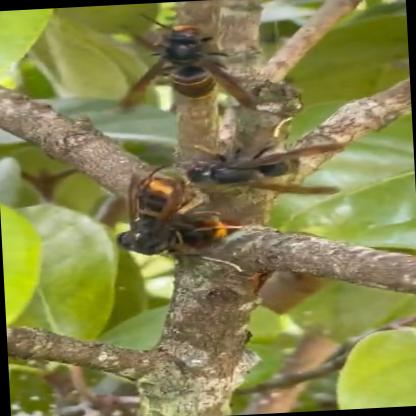bee: (72, 1, 361, 288)
